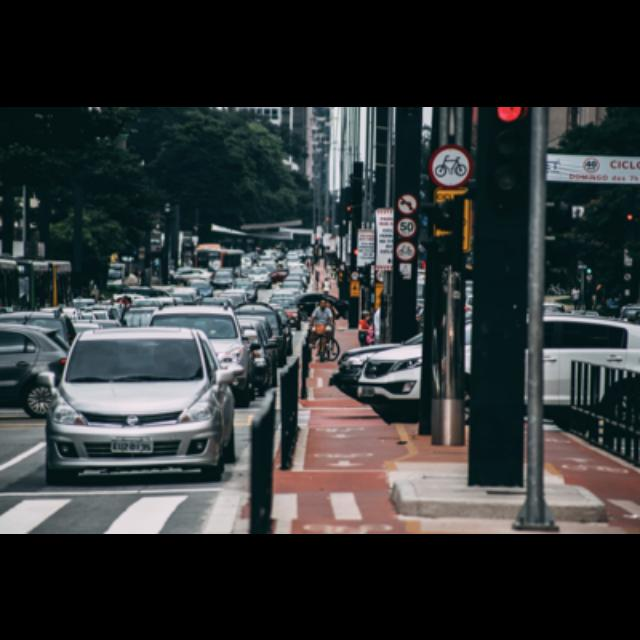carPlate: (111, 436, 153, 452)
